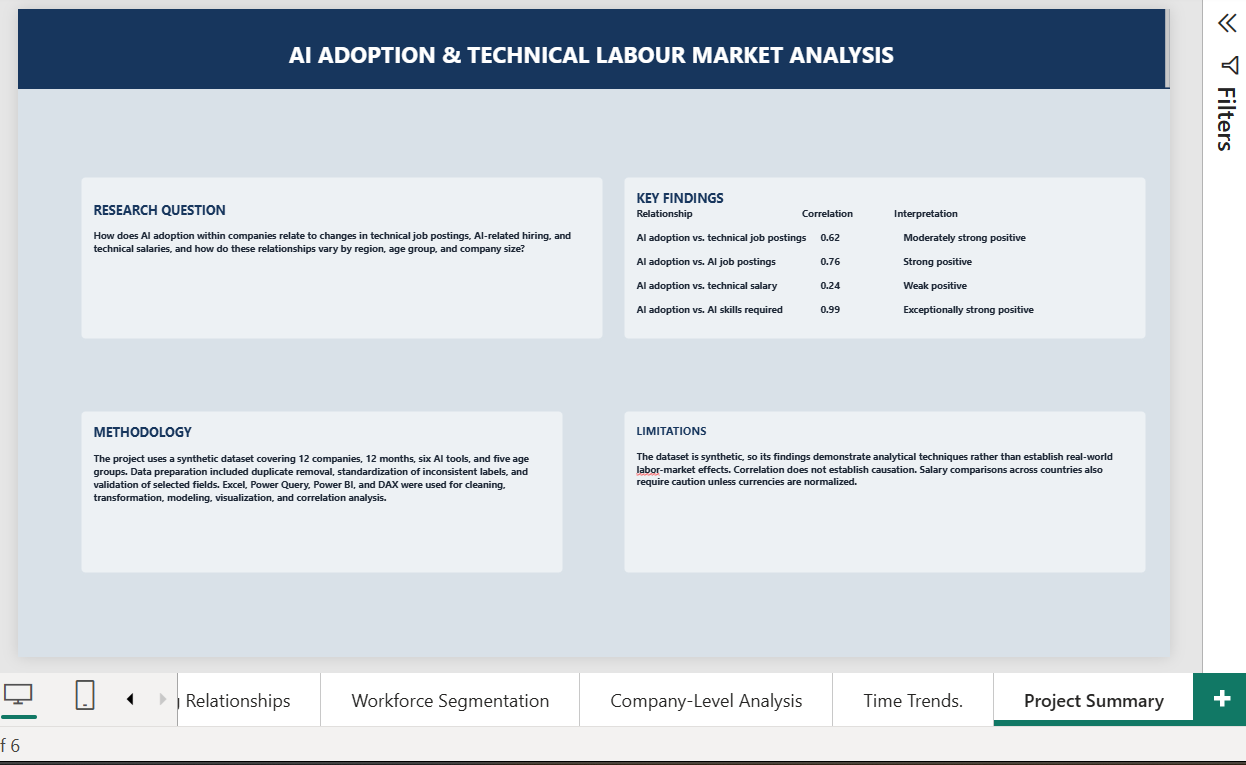

Layout of this report page (visuals, bound fields, positions):
{"tool":"powerbi","page":{"name":"Project Summary","canvas":[1920,1080],"ordinal":12},"visuals":[{"type":"textbox","box":[0,0,1920,133.3],"z":0},{"type":"textbox","box":[104.4,280,870,270],"z":1000},{"type":"textbox","box":[1011.1,280,870,270],"z":2000},{"type":"textbox","box":[104.4,670,803.3,270],"z":3000},{"type":"textbox","box":[1011.1,670,870,270],"z":4000}]}

Visuals, with their boxes on the page's 1920x1080 design canvas (x1, y1, x2, y2). These are canvas units, not pixel positions in the 1246x765 screenshot, which may show the page scaled, cropped or inside an application window:
textbox: 0,0,1920,133
textbox: 104,280,974,550
textbox: 1011,280,1881,550
textbox: 104,670,908,940
textbox: 1011,670,1881,940
